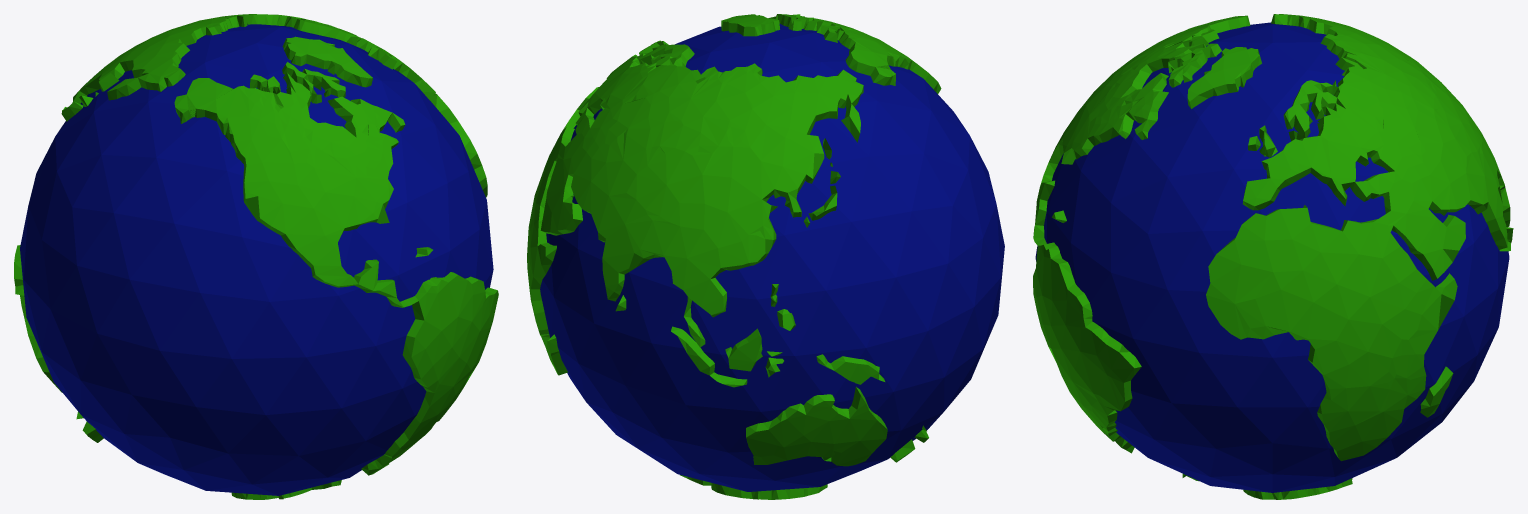
The model's file is earthfinalwithnames.glb.
The picture shows the model from 3 angles, left to right: view 1: azimuth 30°, elevation 25°; view 2: azimuth 150°, elevation 25°; view 3: azimuth 270°, elevation 25°; orthographic projection.
Parts seen in each view (by area): view 1: Ocean, NorthAmerica, SouthAmerica, Asia, Europe, Austrailia, Africa, Antarctica; view 2: Ocean, Asia, Austrailia, NorthAmerica, Africa, Europe, Antarctica; view 3: Ocean, Africa, Asia, NorthAmerica, SouthAmerica, Europe, Antarctica.
Boxes of the visible parts, <box> form: Ocean: <box>20,24,493,495</box>; NorthAmerica: <box>174,36,426,320</box>; SouthAmerica: <box>361,247,498,475</box>; Asia: <box>61,14,278,121</box>; Europe: <box>276,15,435,100</box>; Austrailia: <box>14,245,103,442</box>; Africa: <box>430,93,487,197</box>; Antarctica: <box>231,480,341,499</box>; Ocean: <box>540,24,1004,491</box>; Asia: <box>540,63,863,387</box>; Austrailia: <box>746,354,928,466</box>; NorthAmerica: <box>721,14,941,93</box>; Africa: <box>527,87,598,375</box>; Europe: <box>578,40,694,116</box>; Antarctica: <box>680,475,827,499</box>; Ocean: <box>1035,22,1509,492</box>; Africa: <box>1206,205,1457,461</box>; Asia: <box>1271,14,1513,280</box>; NorthAmerica: <box>1033,15,1261,245</box>; SouthAmerica: <box>1033,210,1141,453</box>; Europe: <box>1242,80,1377,210</box>; Antarctica: <box>1182,474,1352,499</box>.
Bounding box in the file's own units: 2.02 × 2.05 × 2.03.
